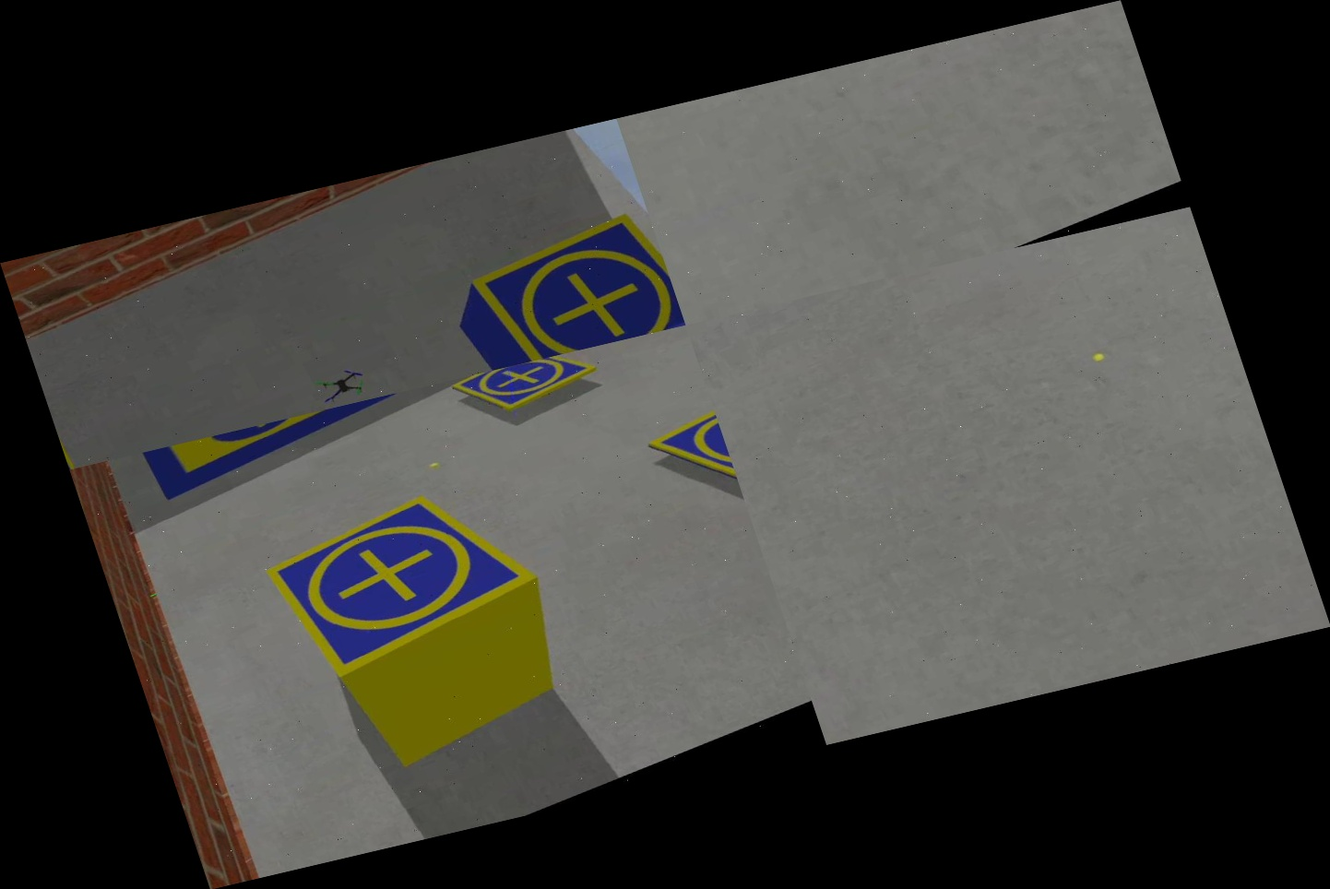large_base: (137, 392, 413, 497)
small_base: (250, 468, 554, 690), (458, 203, 685, 369), (632, 384, 747, 526), (449, 347, 610, 431)
